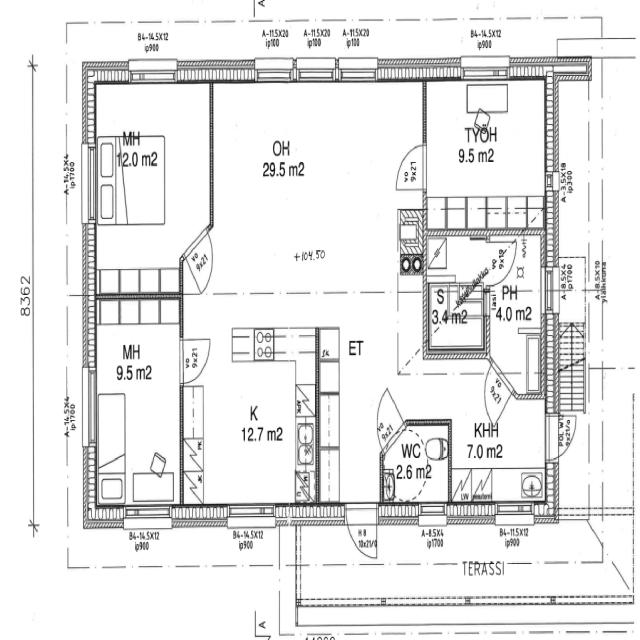door: (180, 232, 216, 299), (345, 502, 379, 559), (392, 138, 428, 191), (178, 333, 212, 382), (556, 412, 577, 456)
window: (80, 362, 100, 452), (81, 138, 100, 230), (225, 499, 278, 525), (127, 62, 178, 87), (293, 57, 338, 84), (123, 501, 174, 523), (461, 62, 511, 84), (337, 60, 380, 84), (254, 59, 296, 83), (495, 497, 535, 522), (417, 500, 449, 524), (542, 264, 556, 318)
zone: (212, 76, 413, 294), (91, 76, 210, 294), (184, 337, 317, 502), (92, 298, 183, 501), (424, 80, 550, 224), (454, 407, 552, 503), (486, 233, 544, 339), (382, 423, 452, 502), (427, 268, 486, 356)
